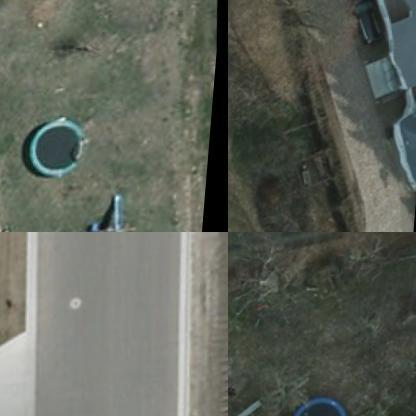car: (346, 1, 384, 58)
